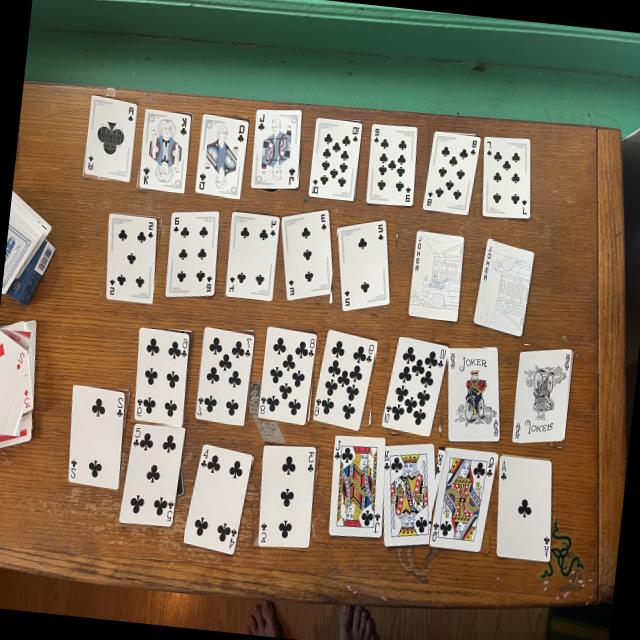10 of clubs: (382, 336, 448, 435), (308, 116, 362, 200)
2 of clubs: (69, 384, 126, 488), (338, 219, 390, 310)
2 of diamonds: (0, 329, 28, 433)
3 of clubs: (259, 443, 317, 547), (281, 208, 334, 299)
3 of diamonds: (11, 320, 33, 410)
4 of clubs: (183, 444, 252, 554), (225, 210, 280, 299)
5 of clubs: (119, 421, 184, 525), (165, 209, 219, 296), (106, 211, 157, 302)
6 of clubs: (134, 325, 189, 424)
7 of clubs: (196, 325, 255, 425), (483, 135, 531, 218)
8 of clubs: (258, 325, 316, 424), (423, 130, 481, 213)
9 of clubs: (313, 328, 376, 430), (366, 123, 417, 205)
Ace of clubs: (496, 454, 552, 560), (84, 93, 137, 181)
Jack of clubs: (329, 434, 386, 536), (251, 107, 303, 188)
Joker: (474, 238, 533, 335), (513, 347, 572, 442), (408, 229, 465, 319), (448, 345, 500, 440)
King of clubs: (384, 442, 437, 545), (139, 108, 191, 192)
Queen of clubs: (430, 446, 497, 551), (194, 112, 249, 198)
